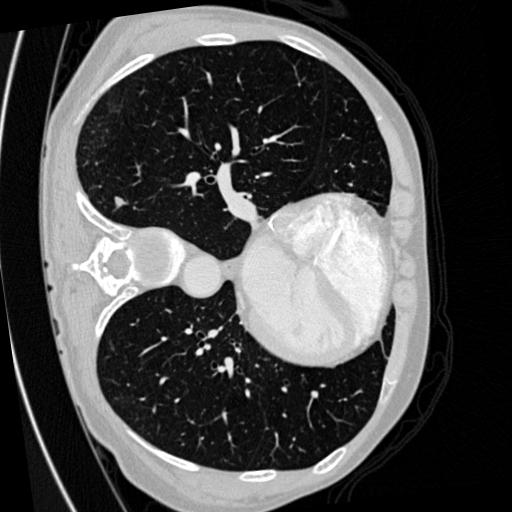nodule: (113, 194, 128, 209)
